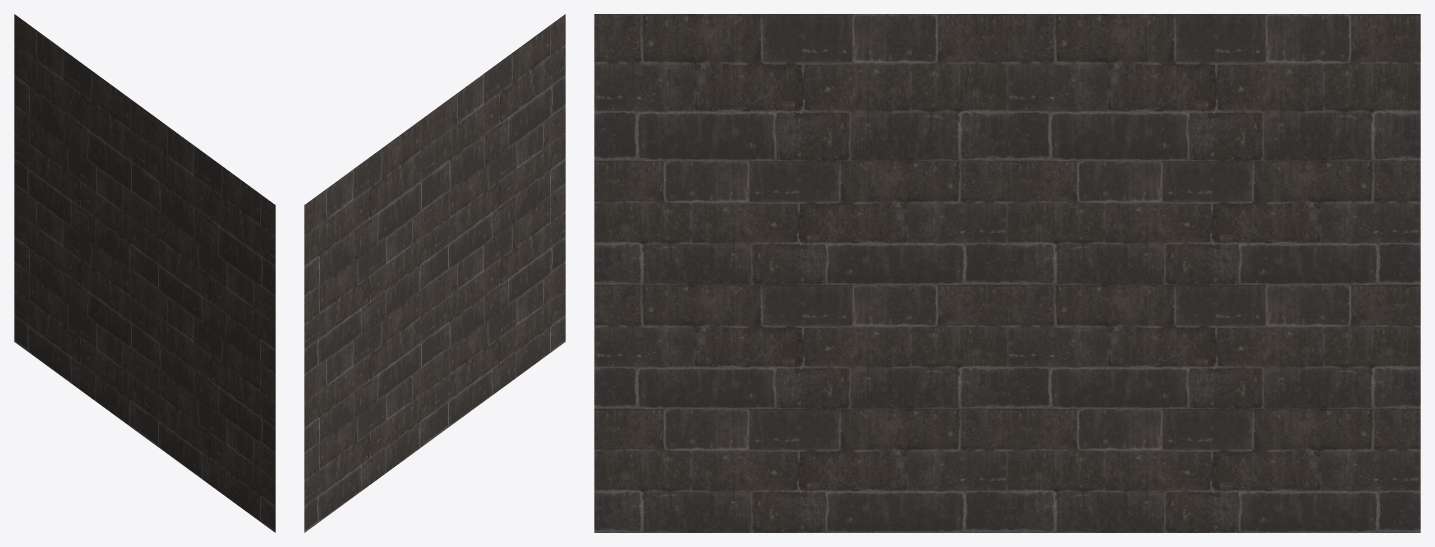
The model's file is Psychiatric_Ward_Basement_Upper_Wall_4m.glb.
3 views of the same model, side by side, from view 1: azimuth 30°, elevation 25°; view 2: azimuth 150°, elevation 25°; view 3: azimuth 270°, elevation 25° (orthographic). The views are drawn at different scales.
Parts seen in each view (by area): view 1: Psychiatric_Ward_Basement_Upper_Wall_4m; view 2: Psychiatric_Ward_Basement_Upper_Wall_4m; view 3: Psychiatric_Ward_Basement_Upper_Wall_4m.
Boxes of the visible parts, bbox=[...] form: Psychiatric_Ward_Basement_Upper_Wall_4m: bbox=[14, 14, 275, 532]; Psychiatric_Ward_Basement_Upper_Wall_4m: bbox=[304, 14, 565, 532]; Psychiatric_Ward_Basement_Upper_Wall_4m: bbox=[594, 14, 1420, 532].
Bounding box in the file's own units: 4.39e-05 × 2.77 × 4.
Materials: 1 (1 with a texture image).
